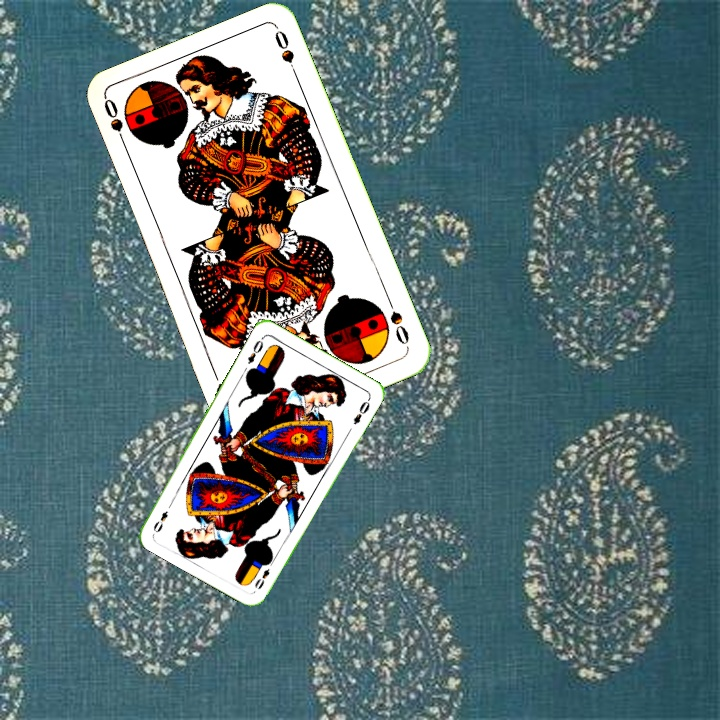EO: (250, 556, 277, 592), (243, 333, 266, 367)
SO: (99, 95, 130, 152), (383, 293, 412, 350)
